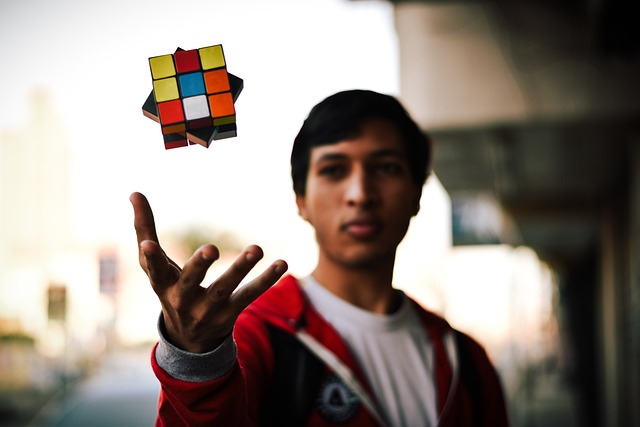cube: (141, 43, 245, 150)
